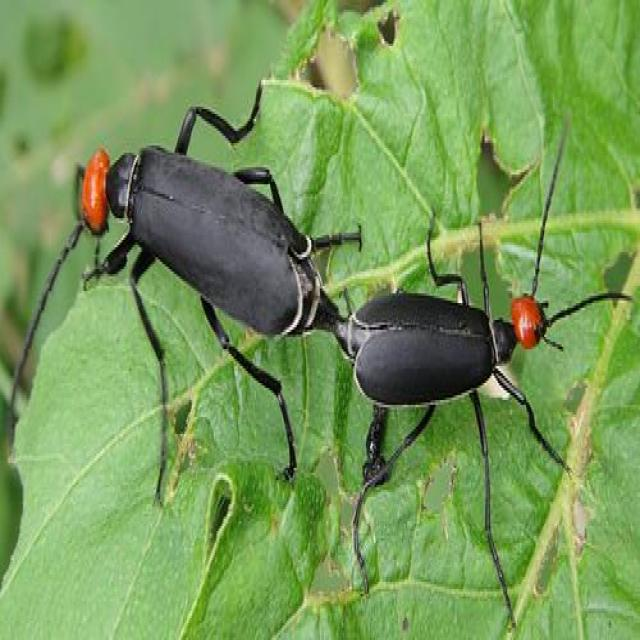BlisterBeetle-Adult-: (57, 73, 338, 415), (331, 204, 594, 482)
